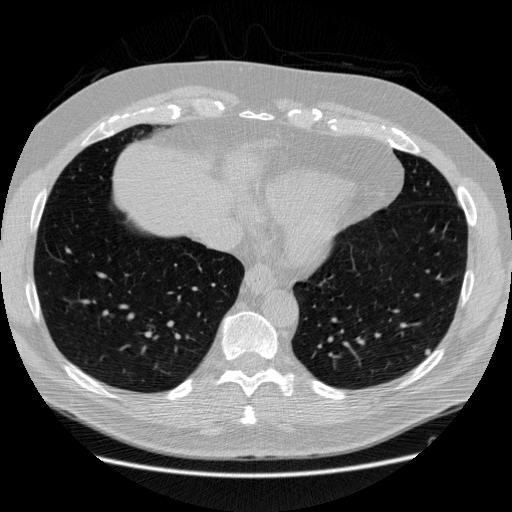nodule: (422, 346, 433, 357)
